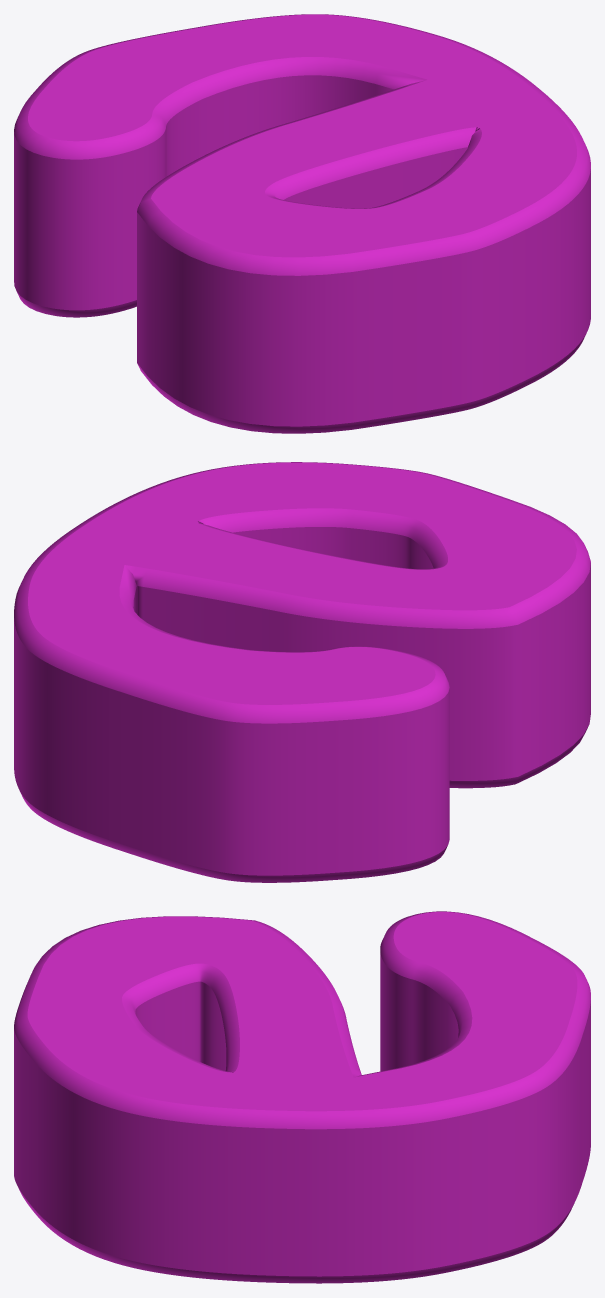
Rendered from Bubble_Letter_e.fbx.
3 renders of one model, top to bottom at view 1: azimuth 30°, elevation 25°; view 2: azimuth 150°, elevation 25°; view 3: azimuth 270°, elevation 25°, orthographic. The views are drawn at different scales.
Parts seen in each view (by area): view 1: BubbleLetter_e; view 2: BubbleLetter_e; view 3: BubbleLetter_e.
Boxes of the visible parts, bbox=[...] form: BubbleLetter_e: bbox=[14, 14, 590, 433]; BubbleLetter_e: bbox=[14, 462, 590, 882]; BubbleLetter_e: bbox=[14, 911, 590, 1283].
Size of the model in its own units: 0.3682 by 0.14 by 0.4261.
